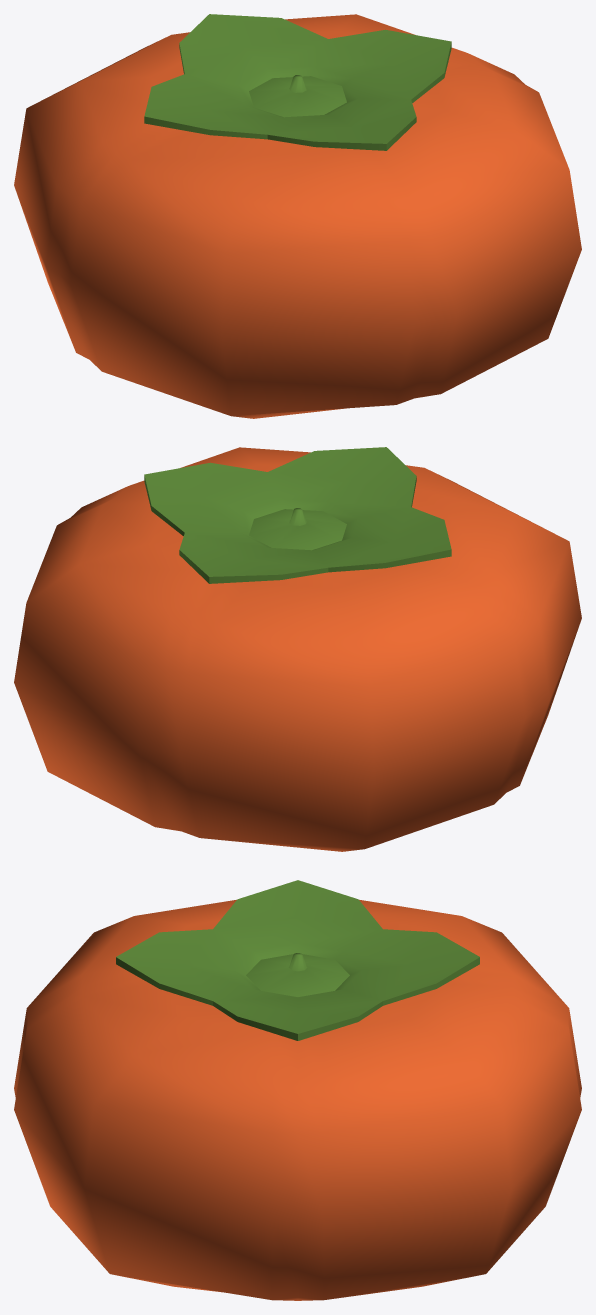
Rendered from KaKi.fbx.
3 renders of one model, top to bottom at view 1: azimuth 30°, elevation 25°; view 2: azimuth 150°, elevation 25°; view 3: azimuth 270°, elevation 25°, orthographic. The views are drawn at different scales.
Parts seen in each view (by area): view 1: MI, Heta; view 2: MI, Heta; view 3: MI, Heta.
Boxes of the visible parts, bbox=[...] form: MI: bbox=[14, 14, 581, 418]; Heta: bbox=[144, 14, 451, 150]; MI: bbox=[14, 447, 581, 851]; Heta: bbox=[144, 447, 451, 583]; MI: bbox=[14, 899, 581, 1300]; Heta: bbox=[116, 880, 479, 1040].
Size of the model in its own units: 0.1163 by 0.0695 by 0.1163.
